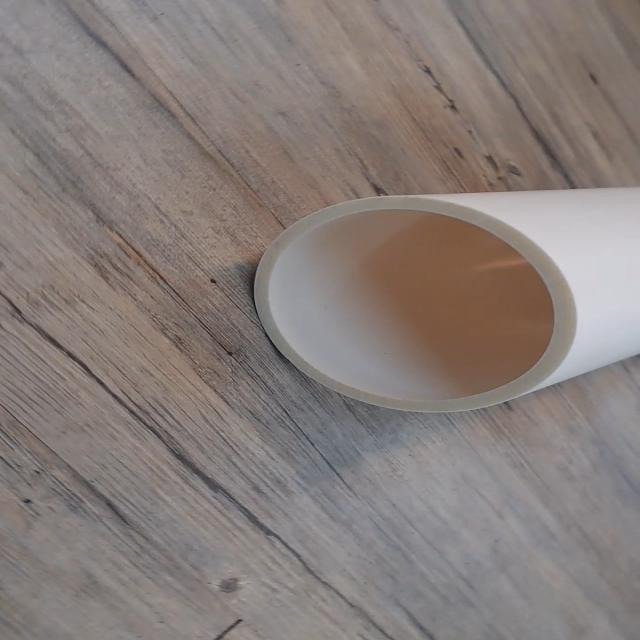CORAL: (237, 176, 640, 420)
